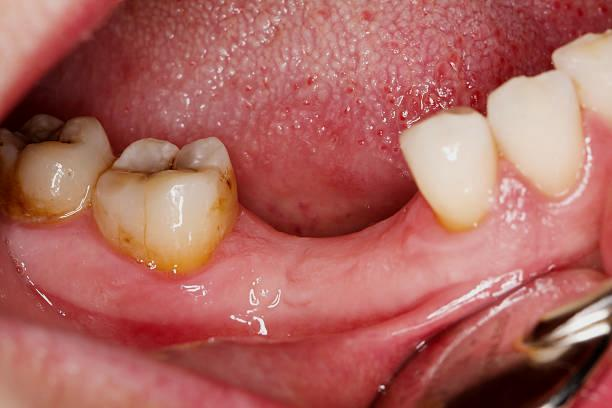Calculus: (99, 154, 248, 279)
